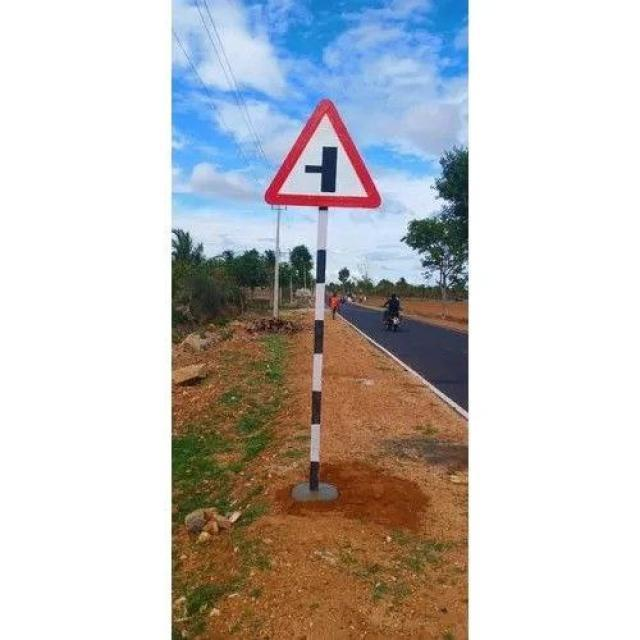side road left: (264, 96, 383, 211)
